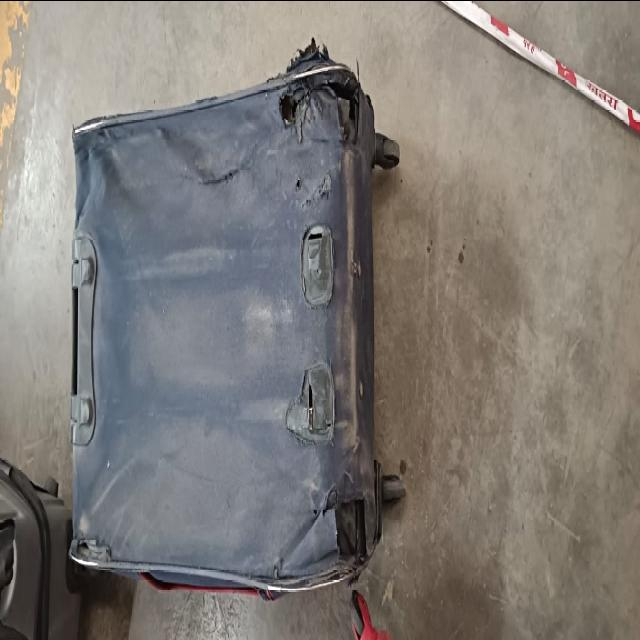Damage-bag: (196, 484, 368, 596), (276, 40, 360, 154), (286, 354, 335, 443), (300, 218, 334, 307), (291, 173, 332, 215), (72, 540, 111, 565)
